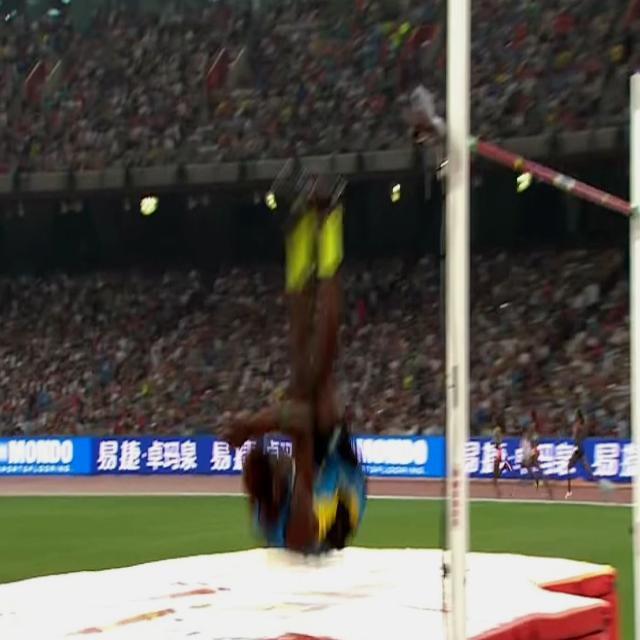land: (217, 156, 369, 559)
